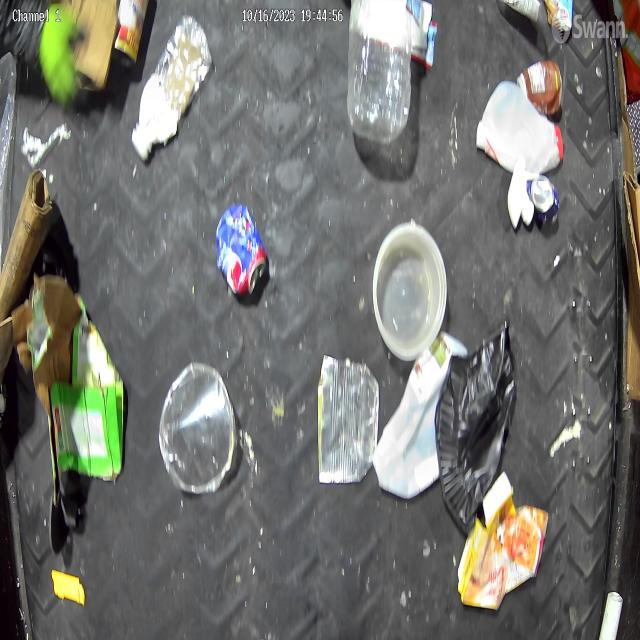can: (317, 352, 379, 485), (215, 200, 268, 298), (112, 0, 150, 68), (526, 176, 559, 226)
milk_jug: (372, 331, 470, 501), (476, 80, 564, 176)
plastic_bottle: (346, 0, 412, 144)
